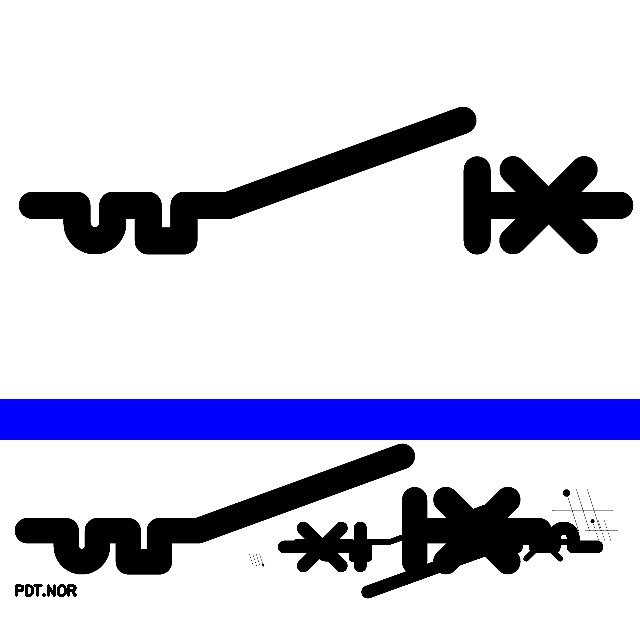interruptor_termomagnetico: (17, 105, 635, 256), (14, 443, 552, 575), (276, 520, 605, 600), (289, 494, 585, 566)
